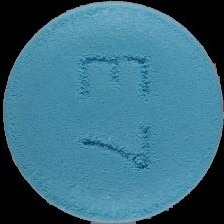0093-5537: (0, 0, 224, 224)
